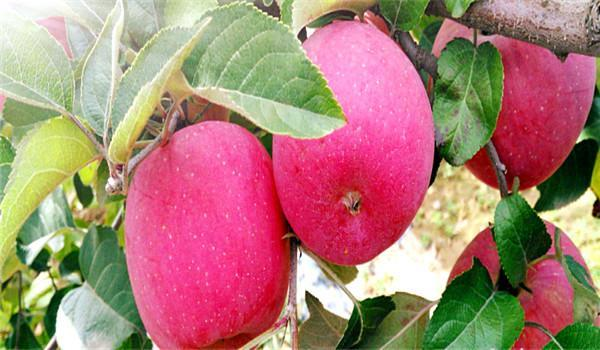apple: (271, 8, 435, 263), (123, 122, 293, 350), (425, 14, 595, 196)
